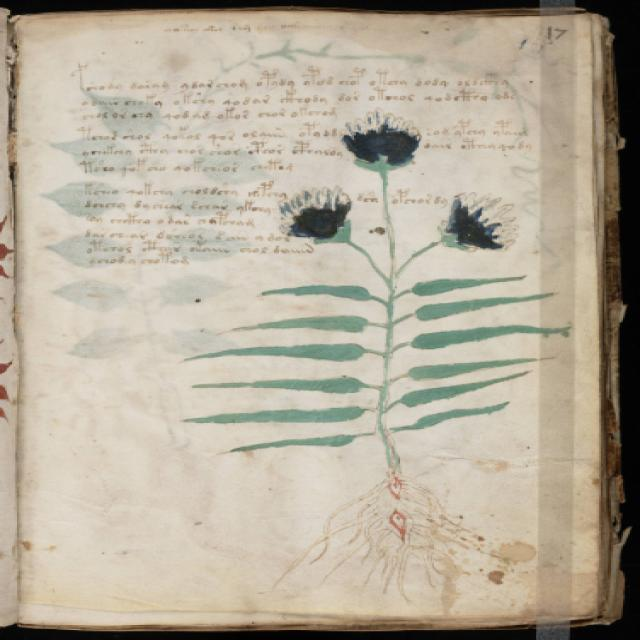plant: (169, 98, 580, 613)
